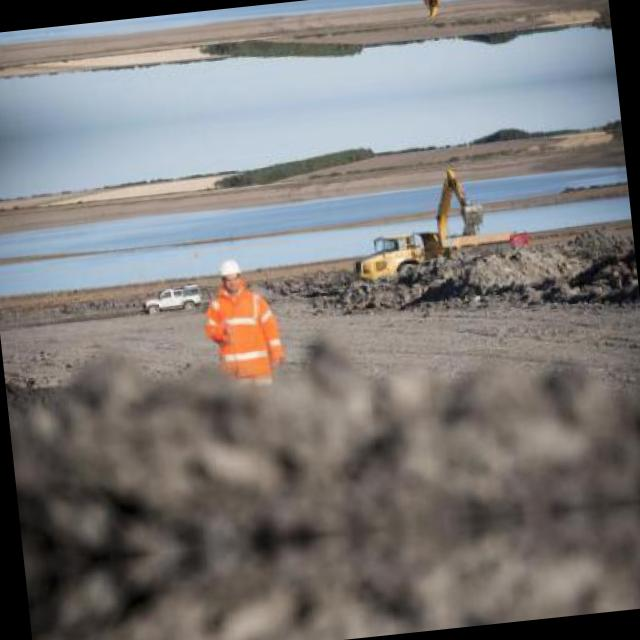helmet: (216, 256, 246, 294)
